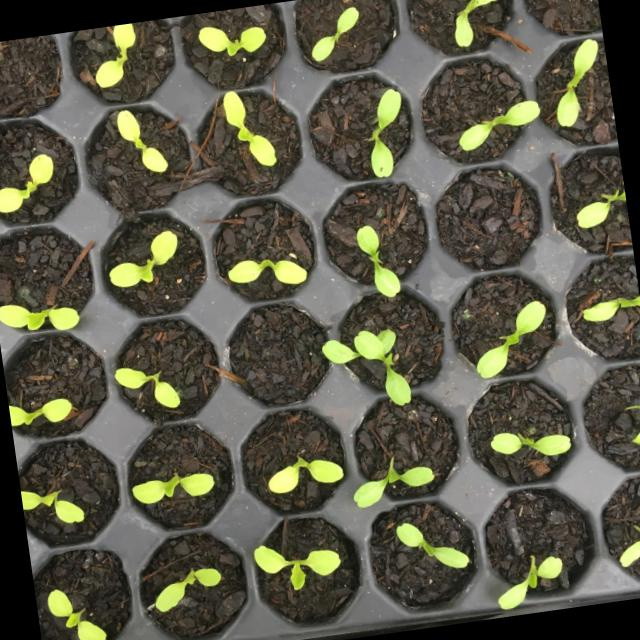verde: (476, 300, 547, 377), (355, 331, 411, 405), (460, 101, 540, 151), (355, 456, 434, 506), (224, 91, 277, 165), (254, 546, 341, 590), (110, 231, 177, 287), (557, 39, 598, 126), (499, 555, 563, 609), (356, 225, 401, 298), (397, 523, 470, 568), (118, 110, 168, 172), (48, 589, 108, 640), (155, 568, 221, 612), (370, 88, 402, 177), (95, 23, 136, 88), (115, 368, 180, 408), (312, 7, 360, 61), (269, 458, 343, 493), (134, 474, 214, 503), (0, 305, 80, 330), (455, 0, 497, 47), (229, 259, 307, 284), (199, 27, 266, 56), (491, 433, 571, 455)
